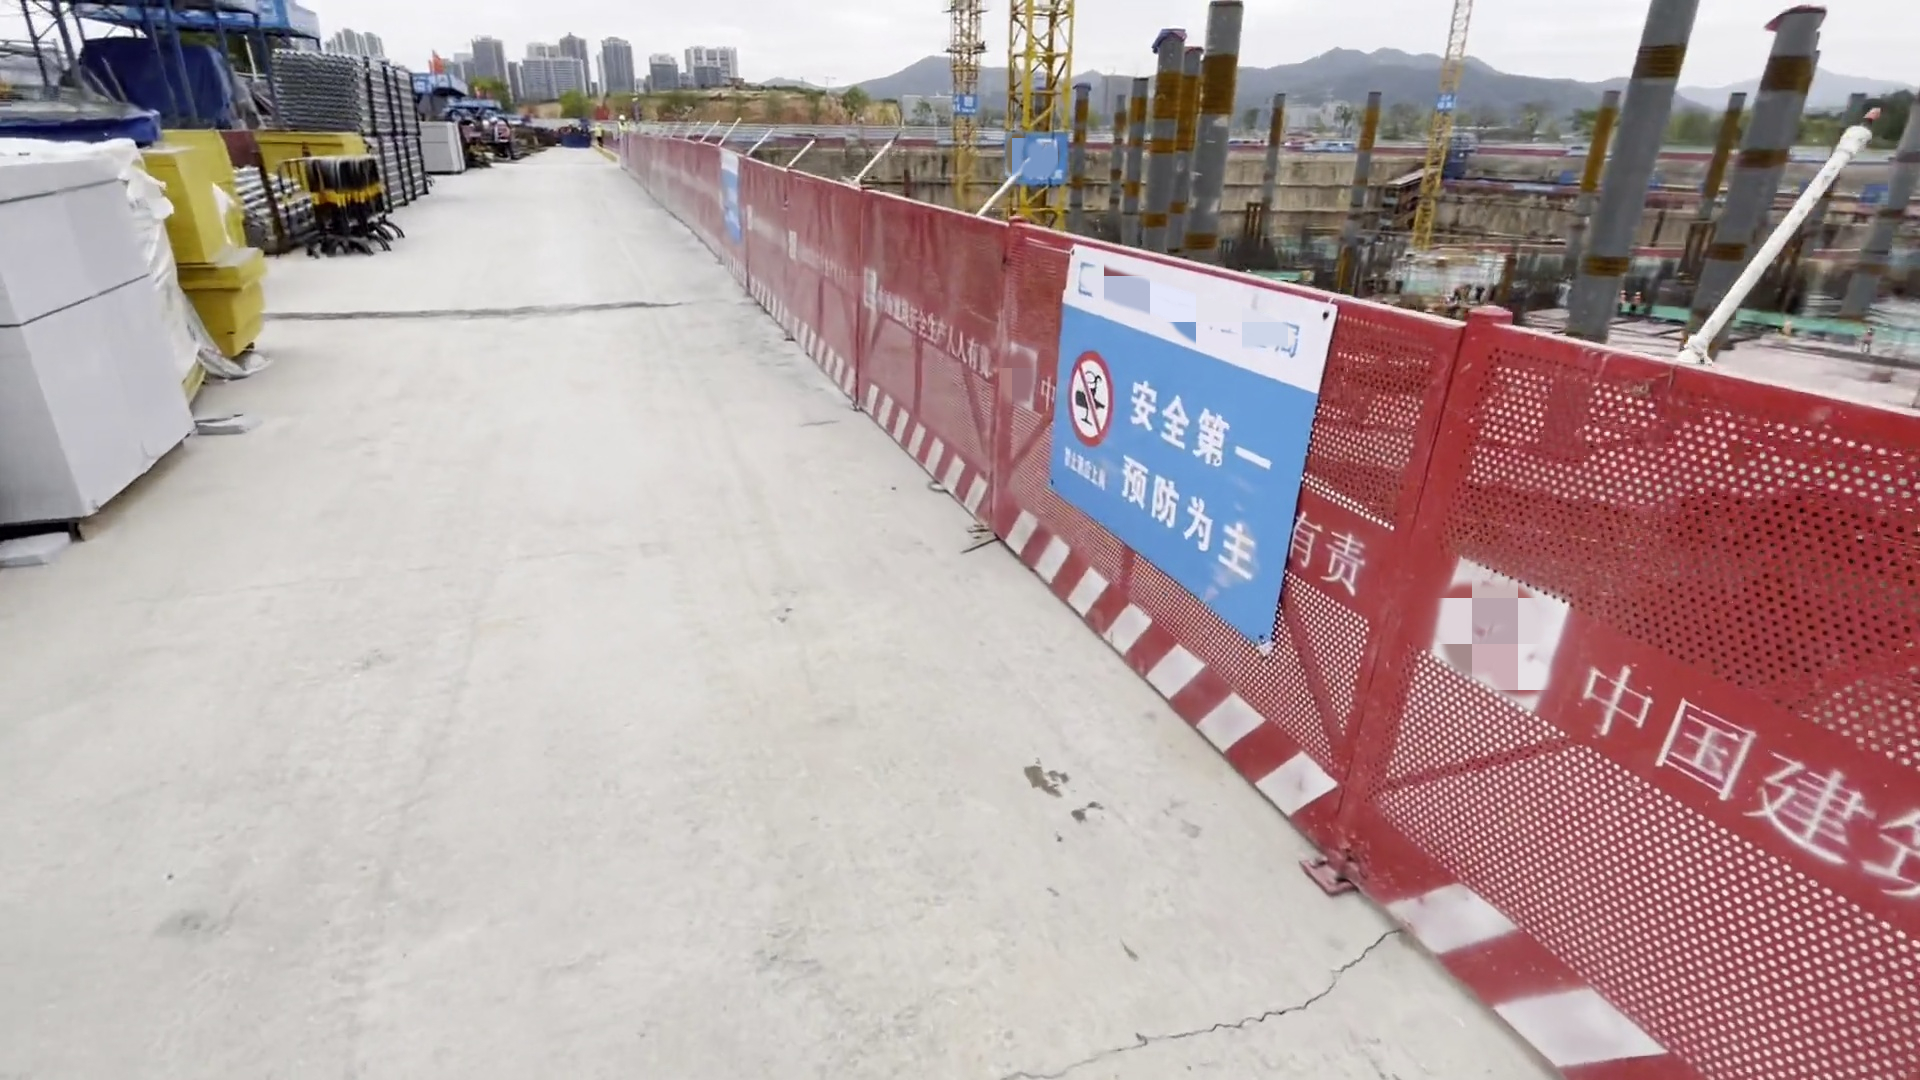brick: (1, 156, 206, 547), (411, 112, 463, 178)
fence: (1335, 322, 1890, 1080), (621, 123, 1065, 535)
scaffold: (268, 49, 429, 196)
slogan: (1058, 330, 1296, 576)
